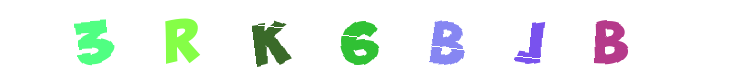3: (73, 0, 153, 80)
6: (319, 0, 399, 80)
B: (336, 0, 416, 80), (569, 0, 649, 80)
J: (439, 0, 519, 80)
K: (228, 0, 308, 80)
R: (140, 0, 220, 80)
